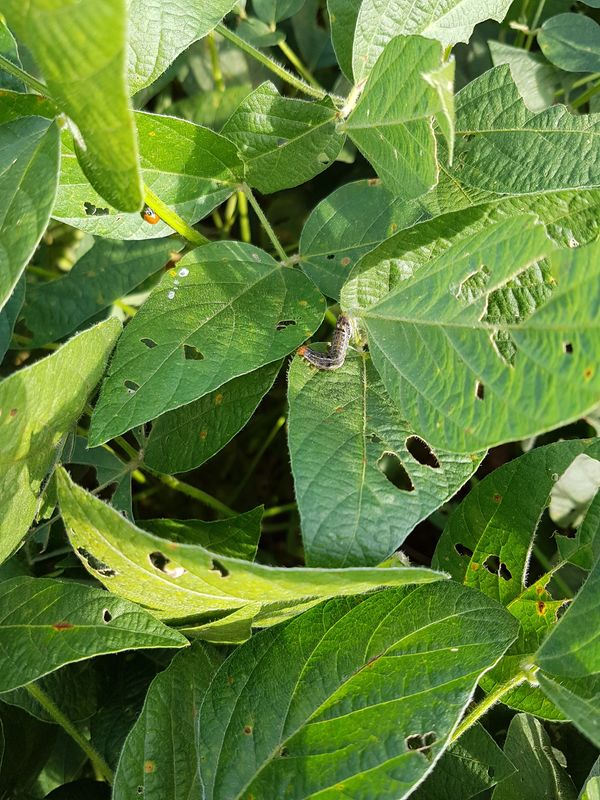Coccinellidae: (137, 200, 163, 227)
Spodoptera_albula: (293, 308, 359, 377)
